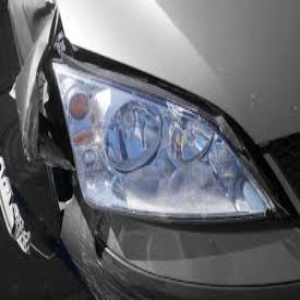bumper_scratch: (67, 235, 161, 300)
head_lights: (21, 56, 280, 220)
